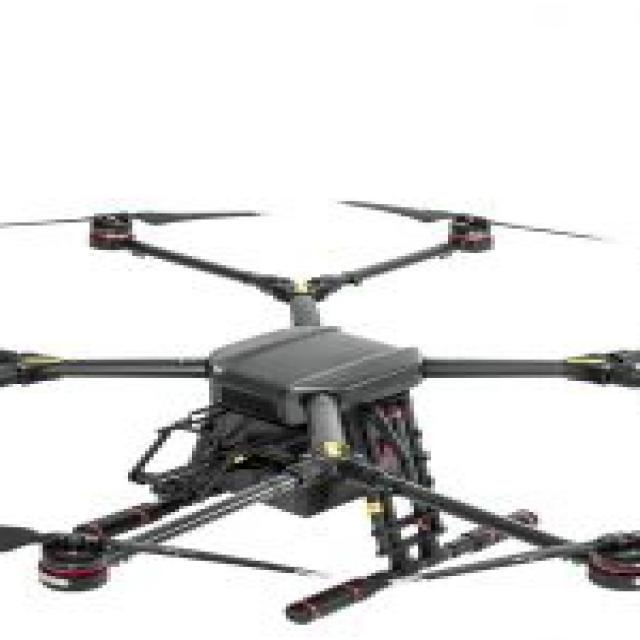drone: (0, 201, 640, 628)
